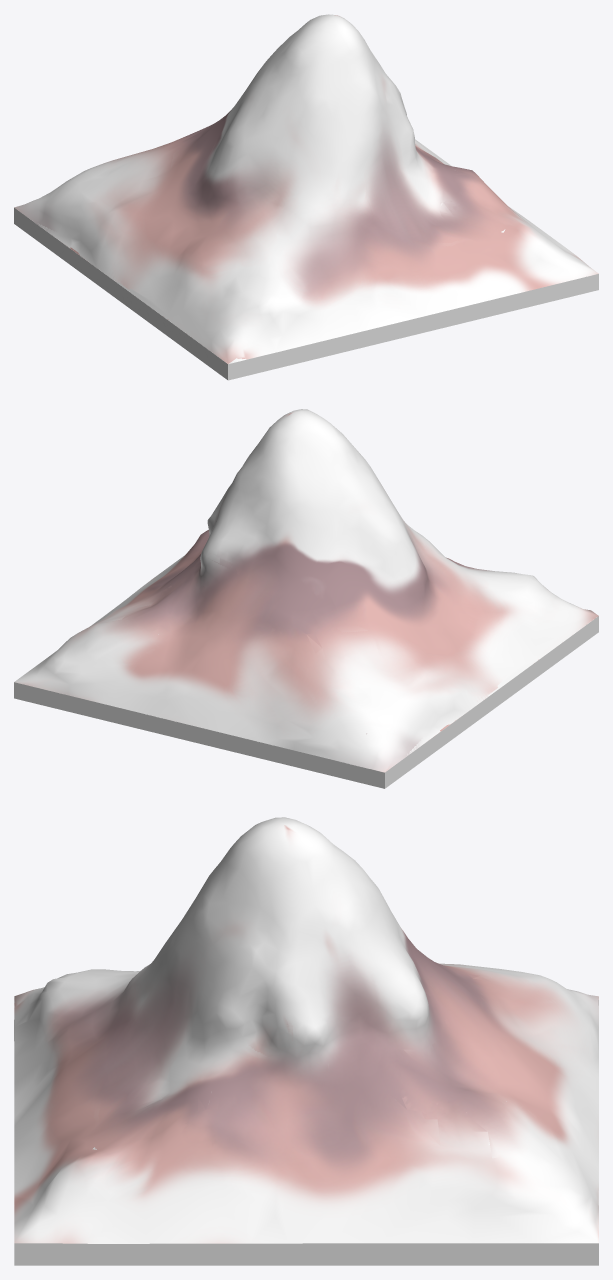
Rendered from Mountain.fbx.
The picture shows the model from 3 angles, top to bottom: view 1: azimuth 30°, elevation 25°; view 2: azimuth 150°, elevation 25°; view 3: azimuth 270°, elevation 25°; orthographic projection. The views are drawn at different scales.
Visible parts, largest first — view 1: Mountain; view 2: Mountain; view 3: Mountain.
Boxes of the visible parts, x1,y1,x2,y2 form: Mountain: [14, 14, 598, 380]; Mountain: [14, 409, 598, 788]; Mountain: [14, 817, 598, 1265].
Size of the model in its own units: 297 by 184 by 296.
